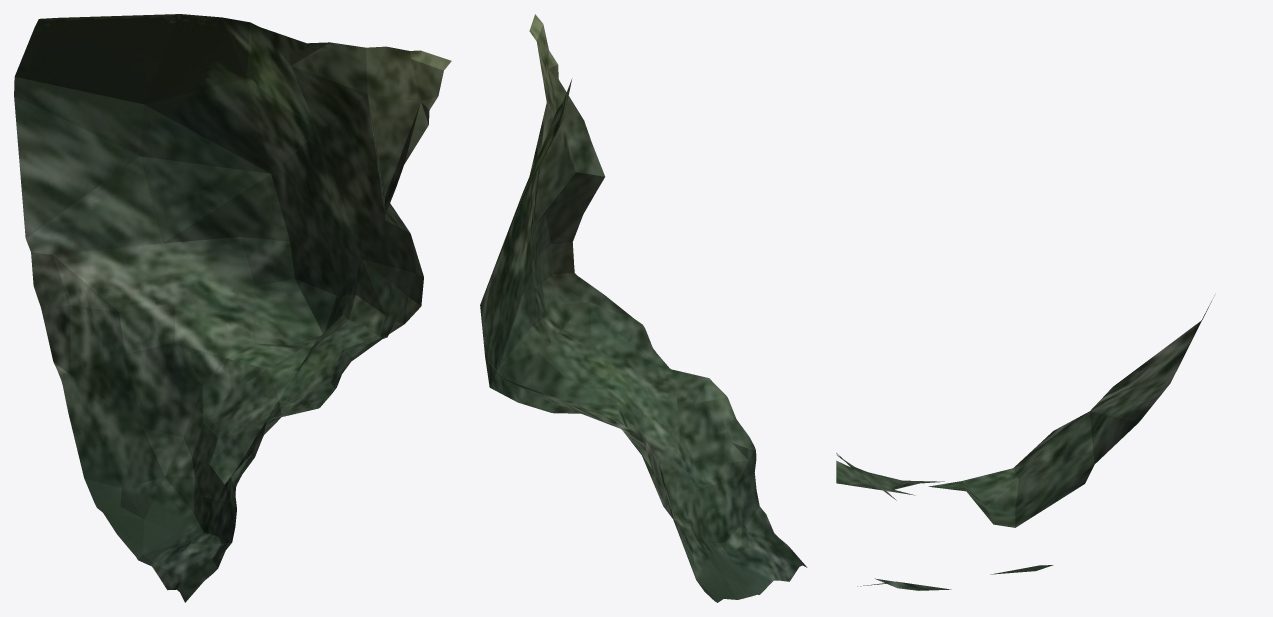
3 renders of one model, left to right at view 1: azimuth 30°, elevation 25°; view 2: azimuth 150°, elevation 25°; view 3: azimuth 270°, elevation 25°, orthographic. The views are drawn at different scales.
Size of the model in its own units: 2.5 by 4.27 by 2.78.
1 material, 1 textured.
